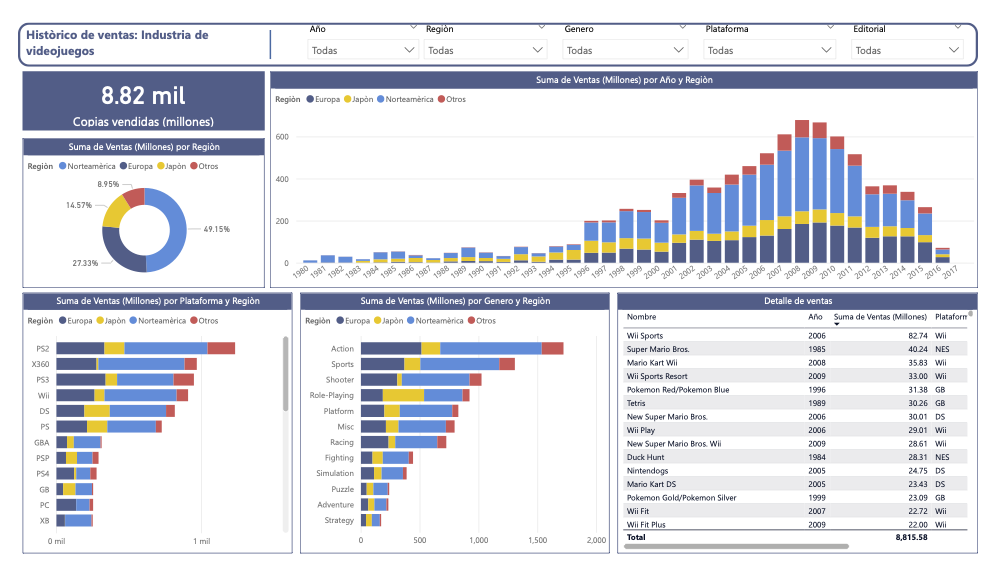

Layout of this report page (visuals, bound fields, positions):
{"tool":"powerbi","page":{"name":"Página 1","canvas":[1280,720],"ordinal":0},"visuals":[{"type":"shape","box":[0,5.6,1280.5,59.3],"z":0},{"type":"tableEx","title":"Detalle de ventas","fields":{"Values":["Ventas Videojuegos.Nombre","Ventas Videojuegos.Año","Sum(Ventas Videojuegos.Ventas (Millones))","Ventas Videojuegos.Plataforma","Ventas Videojuegos.Genero","Ventas Videojuegos.Editorial"]},"box":[799.1,365.6,481.4,348.7],"z":1000},{"type":"columnChart","fields":{"Category":["Ventas Videojuegos.Año"],"Y":["Sum(Ventas Videojuegos.Ventas (Millones))"],"Series":["Ventas Videojuegos.Regiòn"]},"box":[336,70.6,944.5,289.4],"z":2000},{"type":"donutChart","fields":{"Category":["Ventas Videojuegos.Regiòn"],"Y":["Sum(Ventas Videojuegos.Ventas (Millones))"]},"box":[5.6,159.5,323.3,200.5],"z":3000},{"type":"barChart","fields":{"Category":["Ventas Videojuegos.Plataforma"],"Y":["Sum(Ventas Videojuegos.Ventas (Millones))"],"Series":["Ventas Videojuegos.Regiòn"]},"box":[5.6,365.6,360,348.7],"z":4000},{"type":"barChart","fields":{"Y":["Sum(Ventas Videojuegos.Ventas (Millones))"],"Series":["Ventas Videojuegos.Regiòn"],"Category":["Ventas Videojuegos.Genero"]},"box":[375.5,365.6,413.6,348.7],"z":5000},{"type":"card","fields":{"Values":["Sum(Ventas Videojuegos.Ventas (Millones))"]},"box":[5.6,70.6,323.3,79.1],"z":6000},{"type":"slicer","fields":{"Values":["Ventas Videojuegos.Año"]},"box":[375.5,0,169.4,70.6],"z":7000},{"type":"slicer","fields":{"Values":["Ventas Videojuegos.Regiòn"]},"box":[530.8,0,184.9,70.6],"z":8000},{"type":"slicer","fields":{"Values":["Ventas Videojuegos.Genero"]},"box":[715.8,0,187.8,70.6],"z":9000},{"type":"slicer","fields":{"Values":["Ventas Videojuegos.Plataforma"]},"box":[903.5,0,197.6,70.6],"z":10000},{"type":"slicer","fields":{"Values":["Ventas Videojuegos.Editorial"]},"box":[1101.2,0,169.4,80.5],"z":11000},{"type":"textbox","box":[5.6,5.6,313.4,59.3],"z":12000},{"type":"shape","box":[186.4,15.5,300.7,39.5],"z":12001}]}

Visuals, with their boxes in screenshot pixels (x1, y1, x2, y2), scaled from the page's 1280x720 canvas onto the 996x576 screenshot:
shape: [0,4,995,52]
"Detalle de ventas" tableEx: [622,292,995,571]
columnChart - Ventas Videojuegos.Año x Sum(Ventas Videojuegos.Ventas (Millones)): [261,56,995,288]
donutChart - Ventas Videojuegos.Regiòn x Sum(Ventas Videojuegos.Ventas (Millones)): [4,128,256,288]
barChart - Ventas Videojuegos.Plataforma x Sum(Ventas Videojuegos.Ventas (Millones)): [4,292,284,571]
barChart - Sum(Ventas Videojuegos.Ventas (Millones)) x Ventas Videojuegos.Regiòn: [292,292,614,571]
card - Sum(Ventas Videojuegos.Ventas (Millones)): [4,56,256,120]
slicer - Ventas Videojuegos.Año: [292,0,424,56]
slicer - Ventas Videojuegos.Regiòn: [413,0,557,56]
slicer - Ventas Videojuegos.Genero: [557,0,703,56]
slicer - Ventas Videojuegos.Plataforma: [703,0,857,56]
slicer - Ventas Videojuegos.Editorial: [857,0,989,64]
textbox: [4,4,248,52]
shape: [145,12,379,44]
